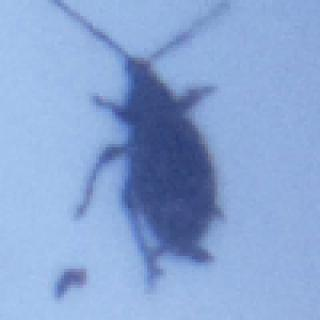bvw: (48, 0, 228, 294)
